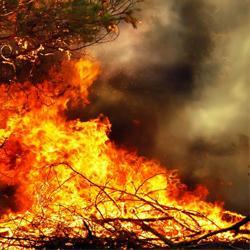fire: (32, 126, 108, 224), (124, 167, 169, 237)
